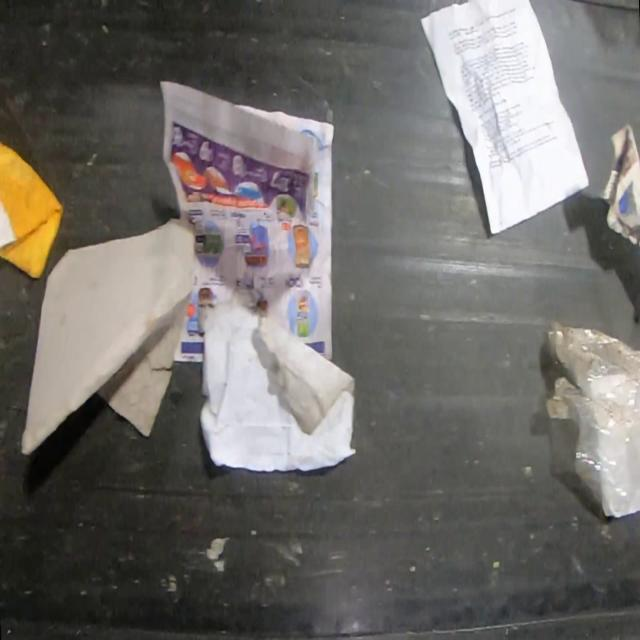soft_plastic: (544, 316, 640, 513)
